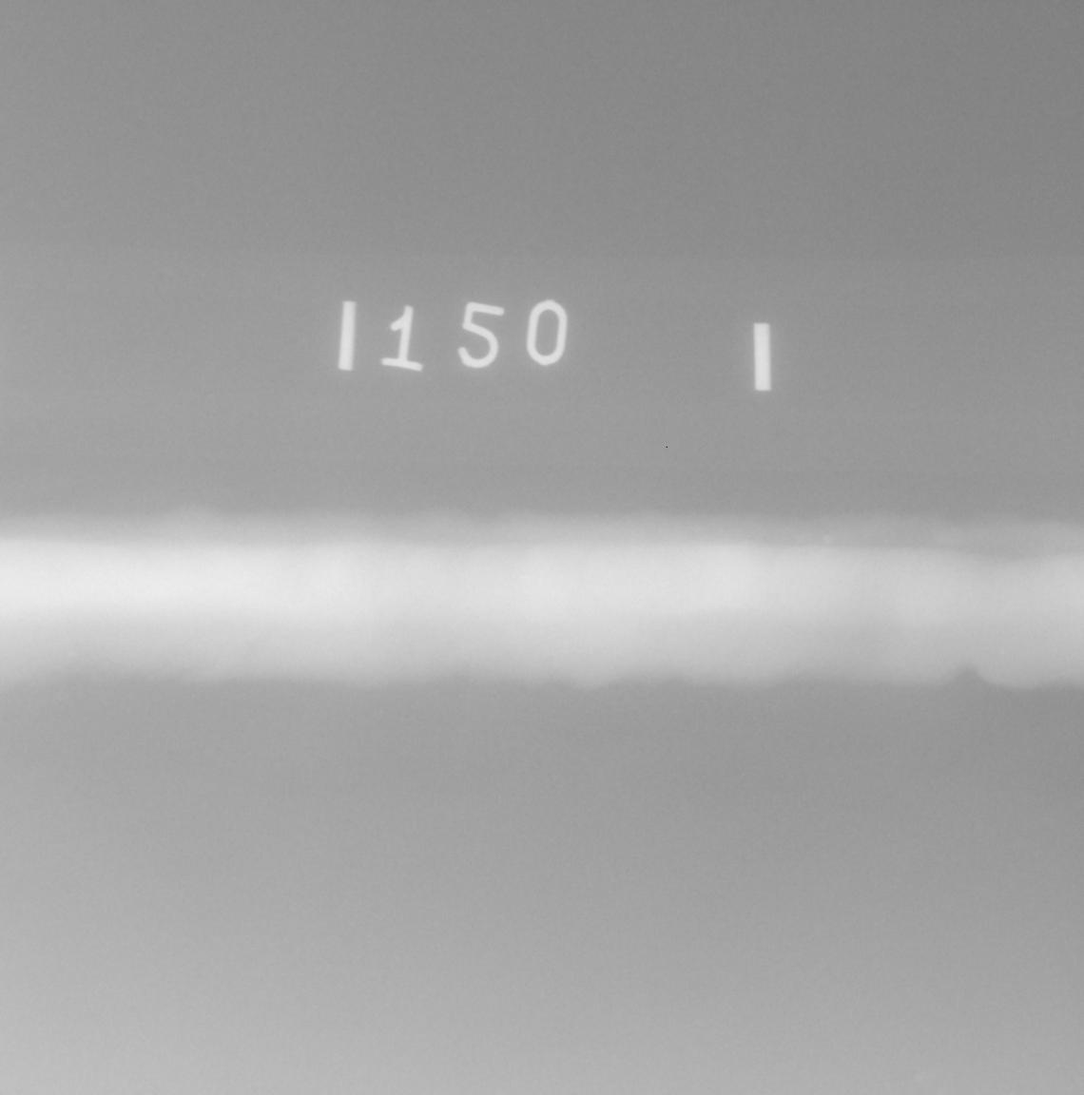Inclusion: (251, 583, 258, 587)
